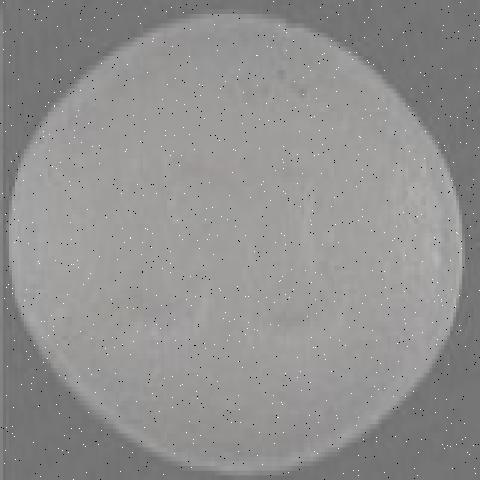Pill: (2, 7, 480, 480)
